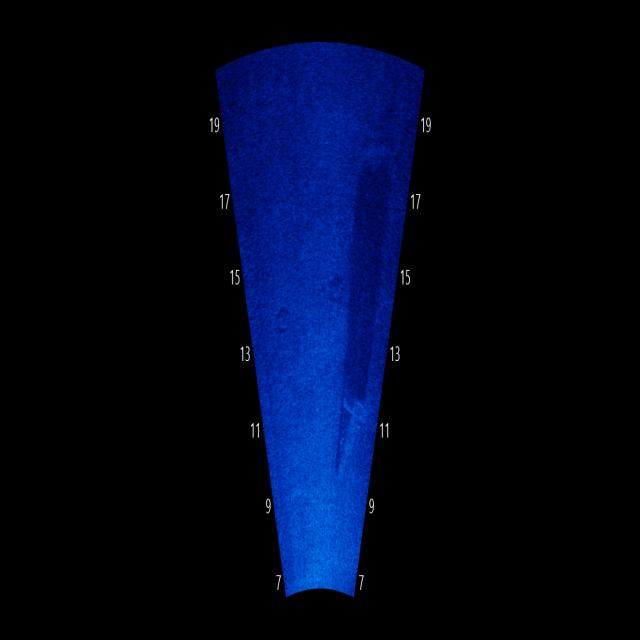triangle: (330, 378, 367, 484)
